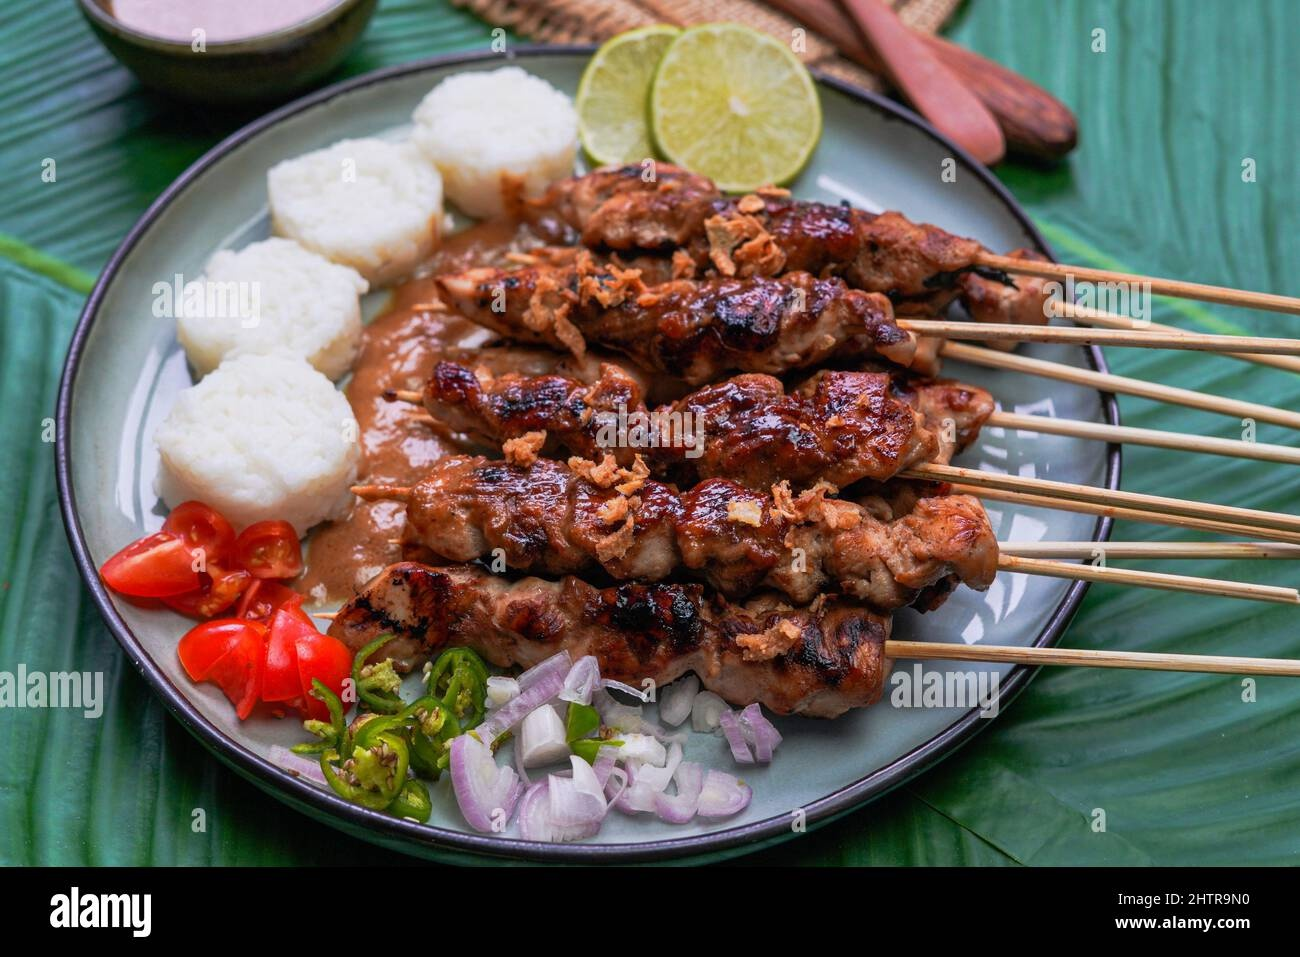sate: (380, 161, 1300, 717)
